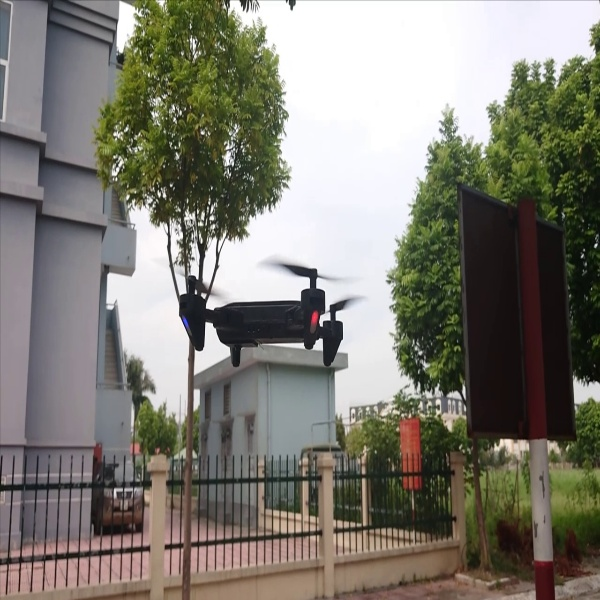drone: (171, 250, 372, 374)
